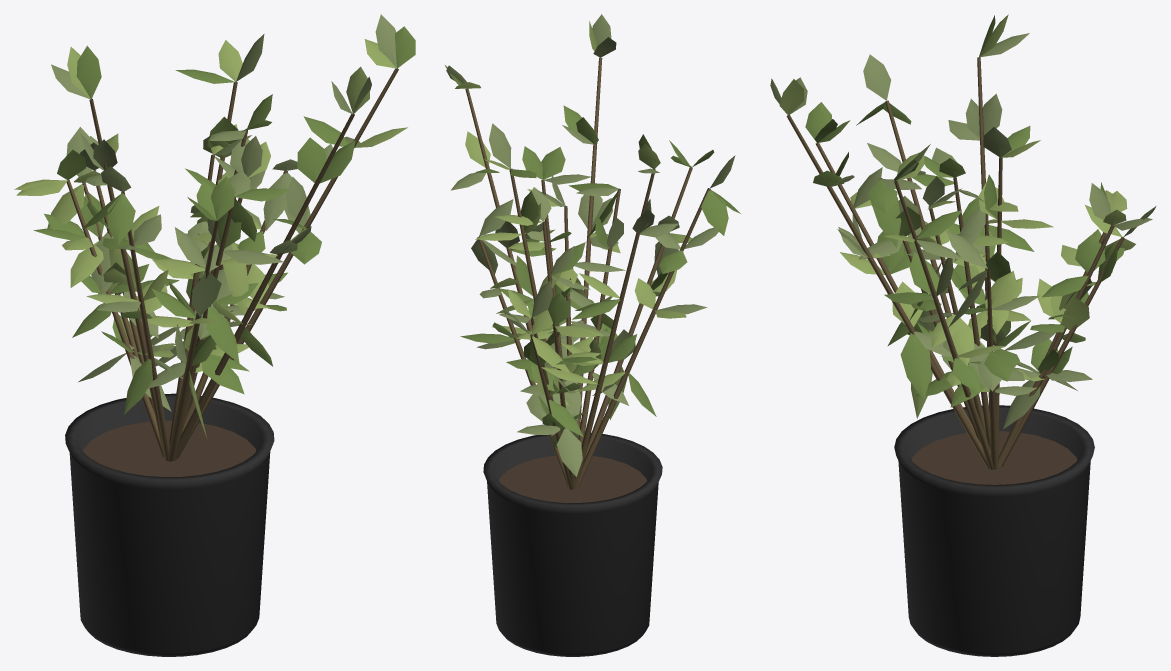
File: plant_small.glb
The picture shows the model from 3 angles, left to right: view 1: azimuth 30°, elevation 25°; view 2: azimuth 150°, elevation 25°; view 3: azimuth 270°, elevation 25°; orthographic projection. The views are drawn at different scales.
Parts seen in each view (by area): view 1: plant_small_leaves, plant_small_pot, plant_small_stems, plant_small_soil; view 2: plant_small_leaves, plant_small_pot, plant_small_stems, plant_small_soil; view 3: plant_small_leaves, plant_small_pot, plant_small_stems, plant_small_soil.
Boxes of the visible parts, x1,y1,x2,y2 form: plant_small_leaves: (14, 14, 415, 437); plant_small_pot: (65, 393, 274, 656); plant_small_stems: (66, 68, 398, 461); plant_small_soil: (83, 420, 256, 476); plant_small_leaves: (445, 14, 740, 476); plant_small_pot: (483, 432, 662, 656); plant_small_stems: (465, 57, 710, 489); plant_small_soil: (499, 455, 646, 502); plant_small_leaves: (770, 14, 1156, 429); plant_small_pot: (894, 405, 1094, 656); plant_small_stems: (786, 57, 1124, 469); plant_small_soil: (911, 431, 1077, 484).
Size of the model in its own units: 0.3772 by 0.6676 by 0.4003.
